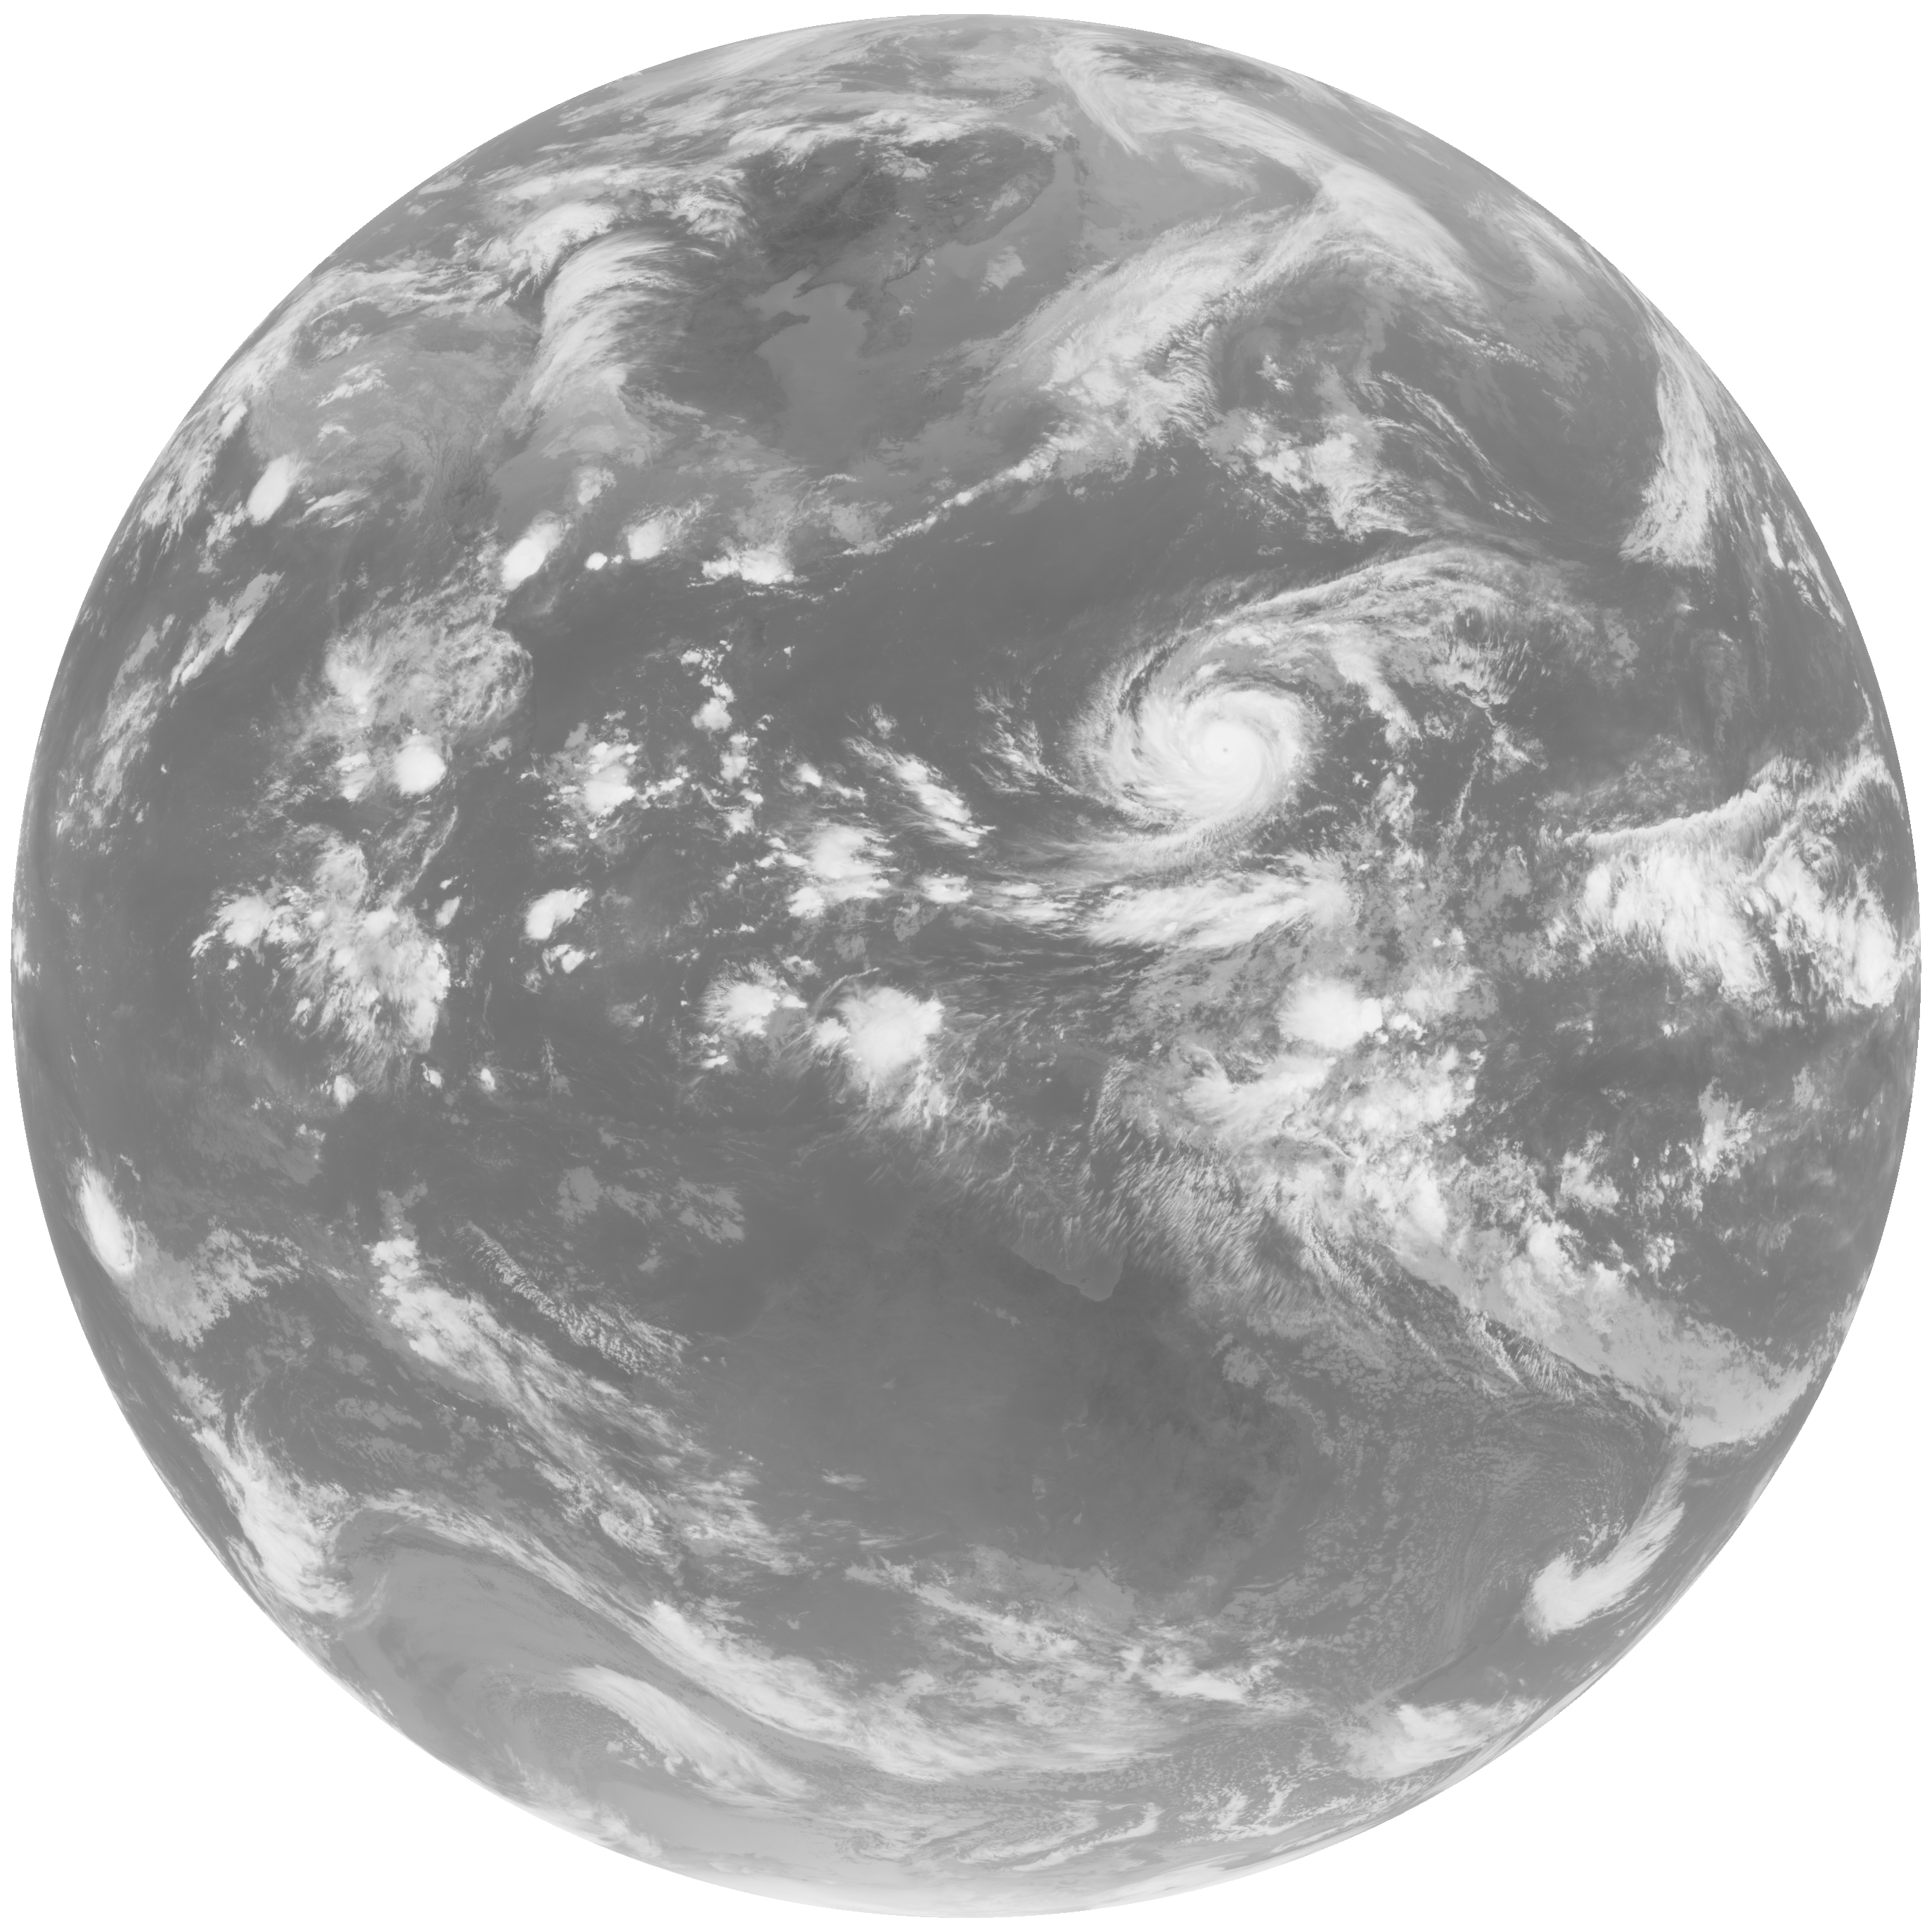typhoon: (968, 533, 1566, 879)
